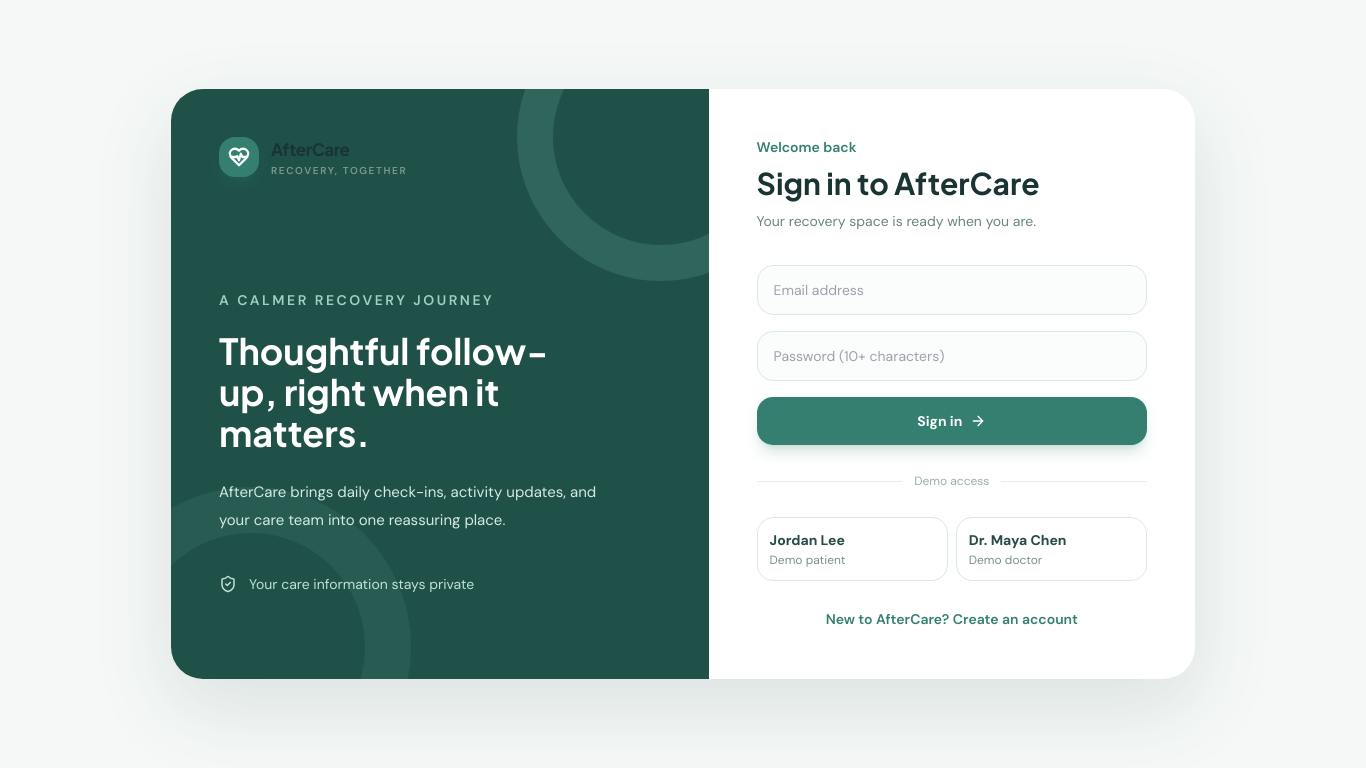
it: AuthScreen › shows error message when sign-in fails
In the field with placeholder "Email address": (952, 290) 757,265 -> 1147,315, type "bad@example.com"
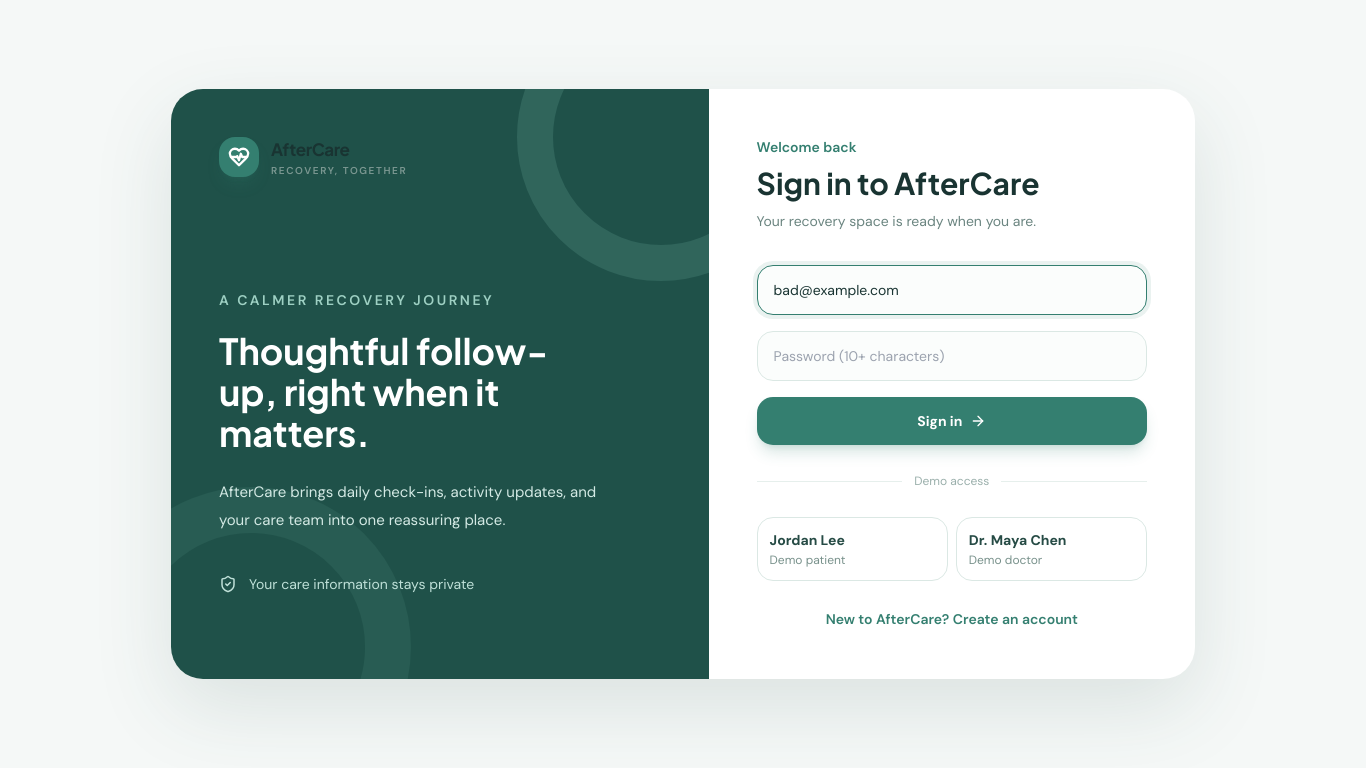
In the password field with placeholder "Password (10+ characters)": (952, 356) 757,331 -> 1147,381, type "badpassword1"
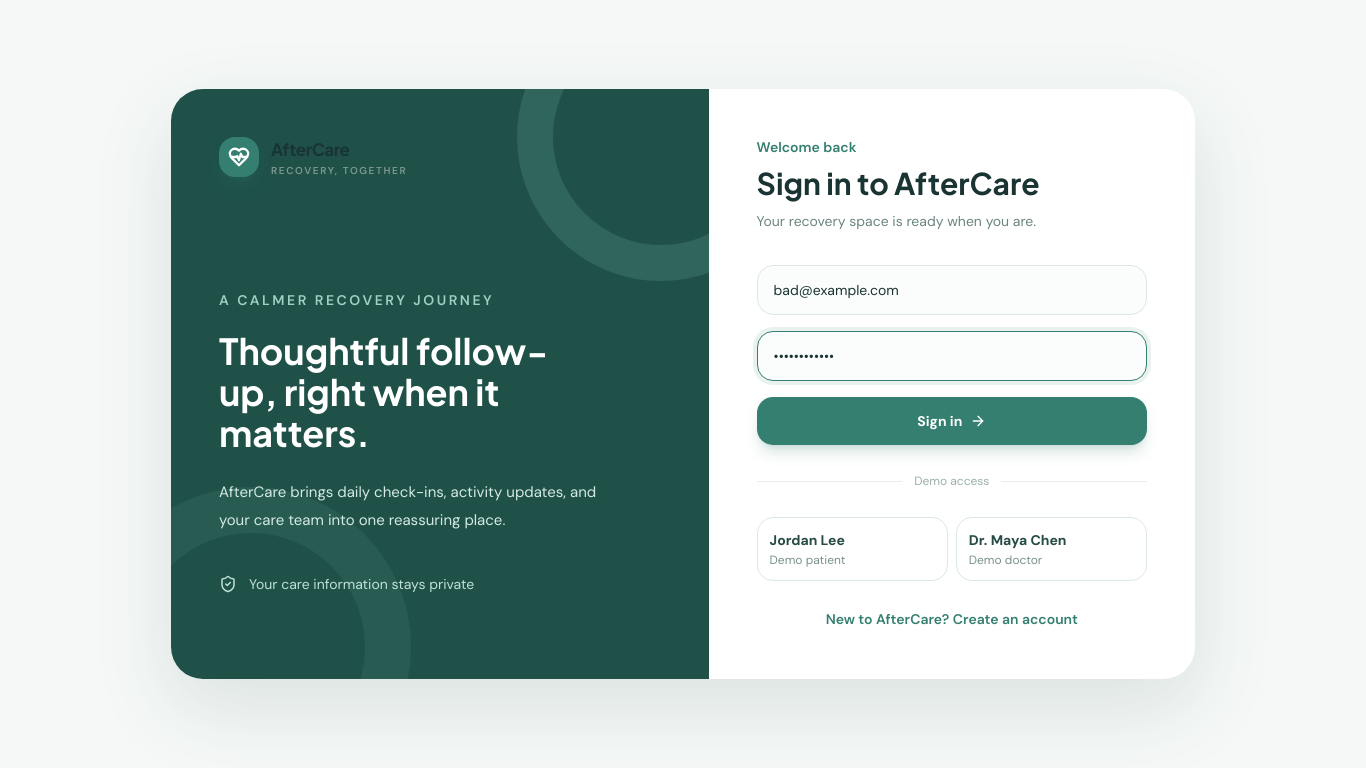
Click the button "Sign in": click(952, 421) 757,397 -> 1147,445
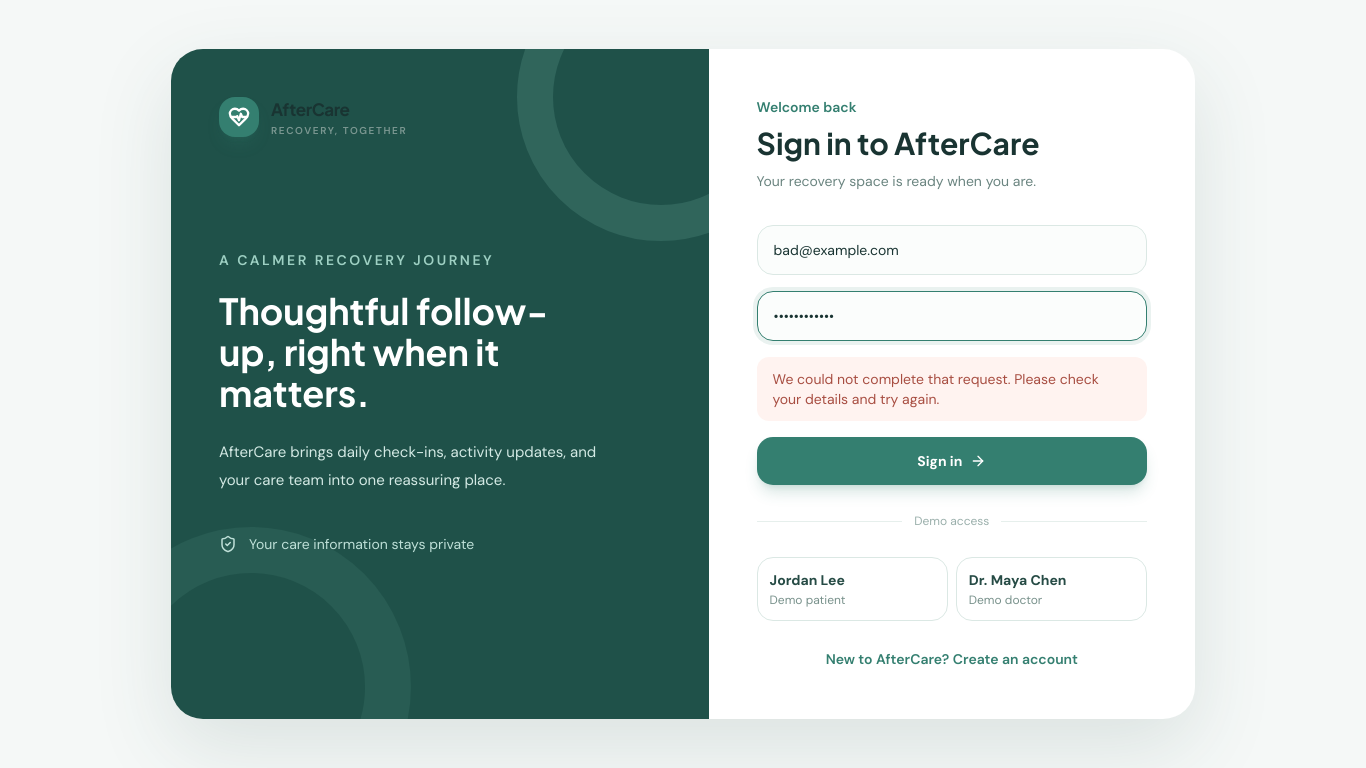
Result: the text "We could not complete that request. Please check your details and try again." is shown at 757,357 -> 1147,421
